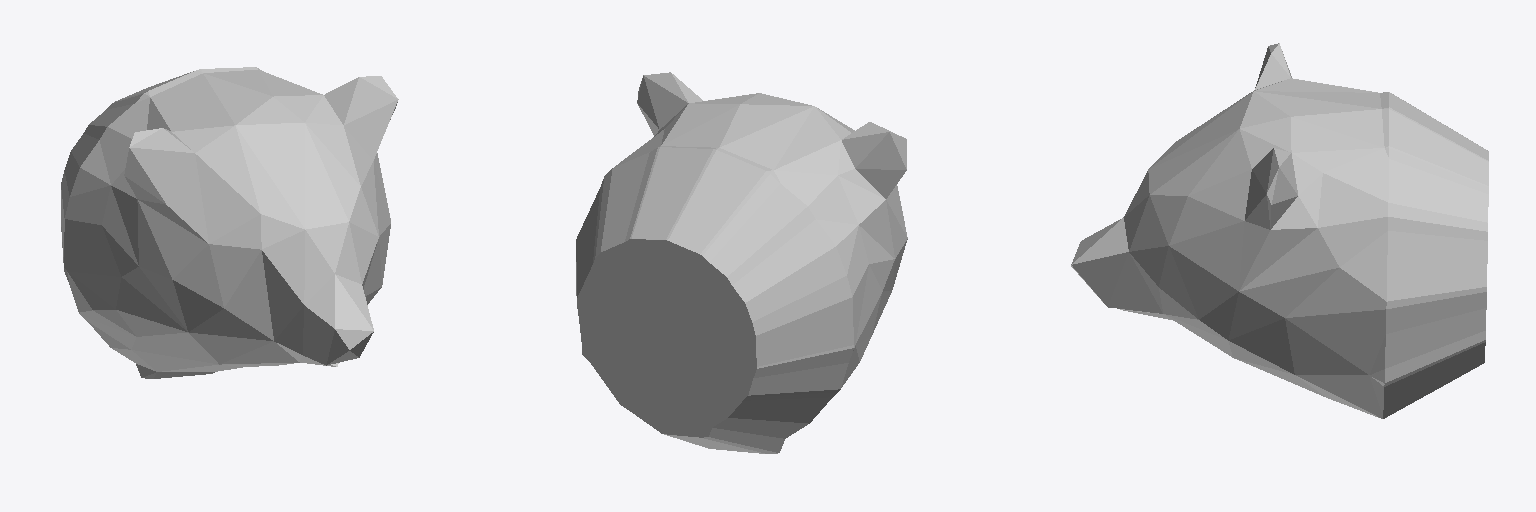
File: HeadBear.obj
3 views of the same model, side by side, from view 1: azimuth 30°, elevation 25°; view 2: azimuth 150°, elevation 25°; view 3: azimuth 270°, elevation 25° (orthographic).
Visible parts, largest first — view 1: Bear_Low_Poly; view 2: Bear_Low_Poly; view 3: Bear_Low_Poly.
Part boxes in pixels (bbox=[...]): Bear_Low_Poly: bbox=[61, 67, 398, 378]; Bear_Low_Poly: bbox=[576, 72, 907, 453]; Bear_Low_Poly: bbox=[1071, 43, 1488, 418].
Size of the model in its own units: 0.5542 by 0.5977 by 0.7204.